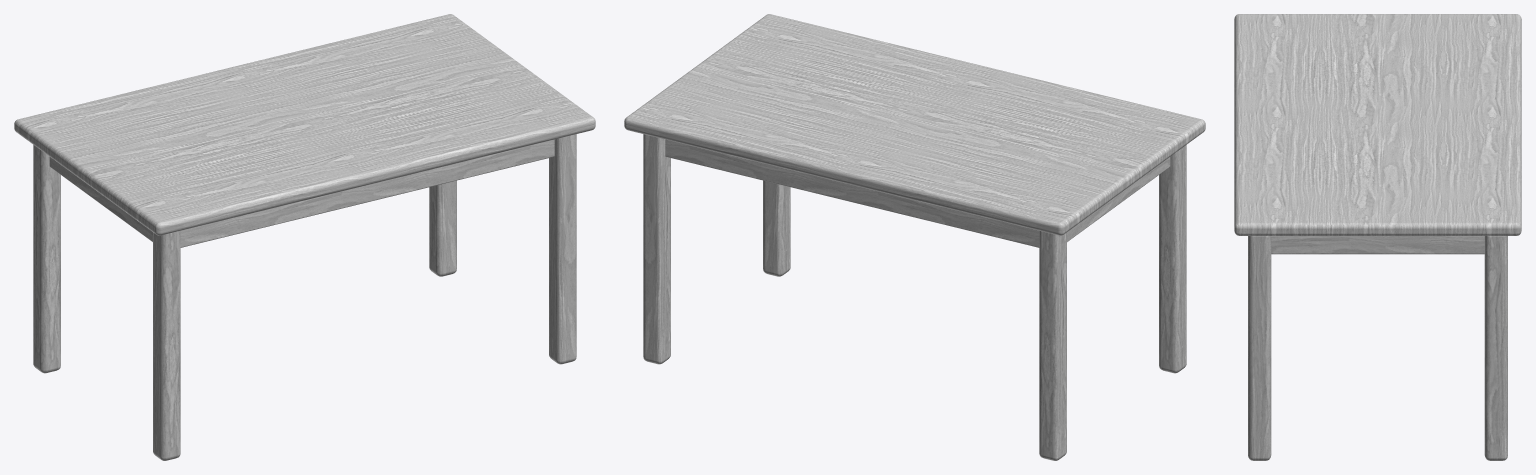
The model's file is dining-table-1.4m.gltf.
3 renders of one model, left to right at view 1: azimuth 30°, elevation 25°; view 2: azimuth 150°, elevation 25°; view 3: azimuth 270°, elevation 25°, orthographic.
Parts seen in each view (by area): view 1: dining-table; view 2: dining-table; view 3: dining-table.
Boxes of the visible parts, x1,y1,x2,y2 form: dining-table: (14, 14, 595, 460); dining-table: (624, 14, 1205, 460); dining-table: (1234, 14, 1521, 460).
Bounding box in the file's own units: 1.4 × 0.75 × 0.8.
1 material, 1 textured.
